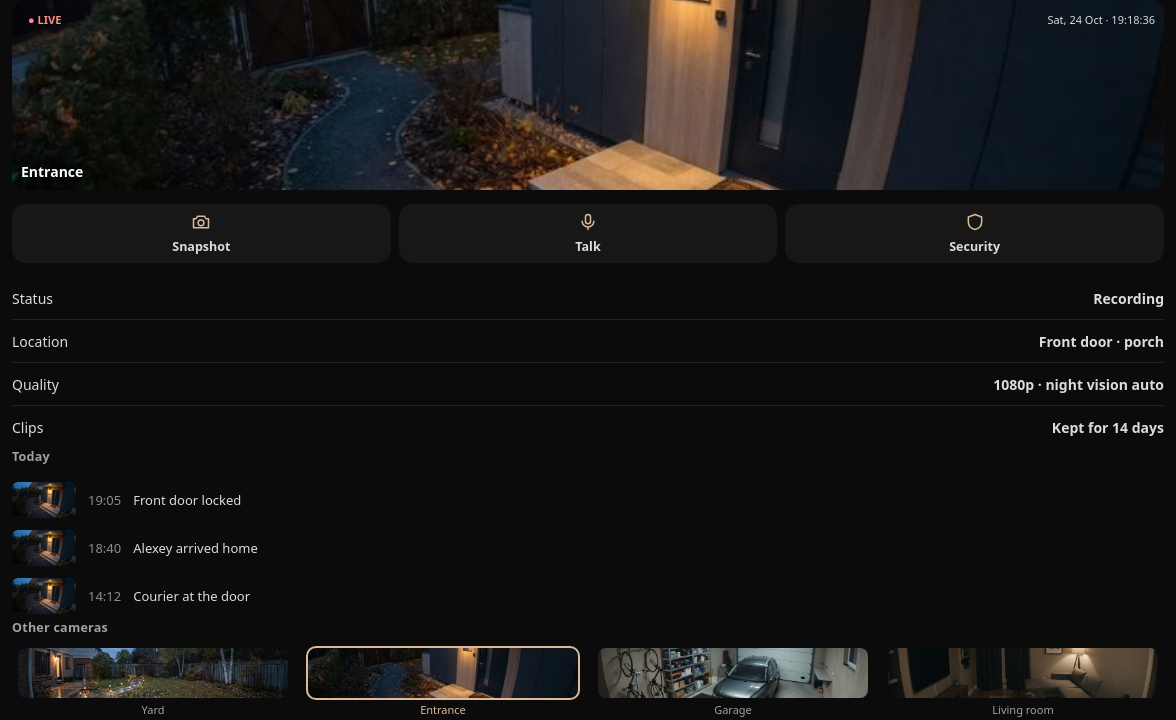
камера: Talk как в прототипе › повторное нажатие выключает разговор и не дублирует запись
Click the button "Talk". click: (588, 234)
box: [399,204,777,263]
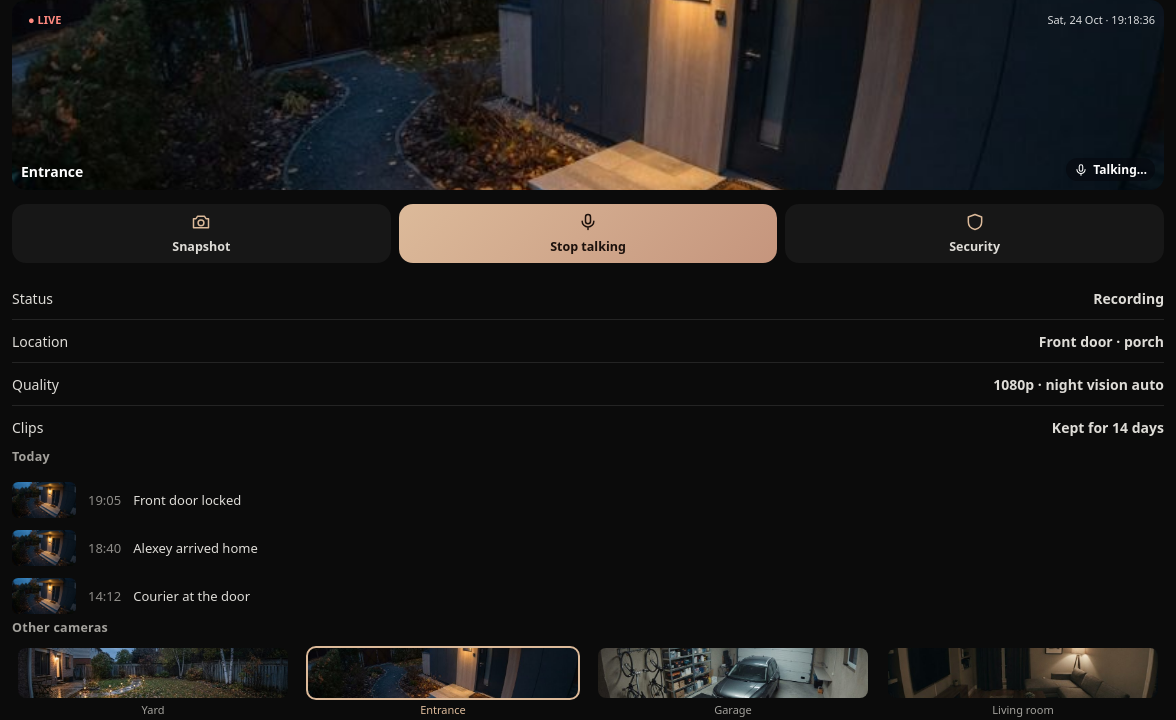
Click the button "Stop talking". click: (588, 234)
box: [399,204,777,263]
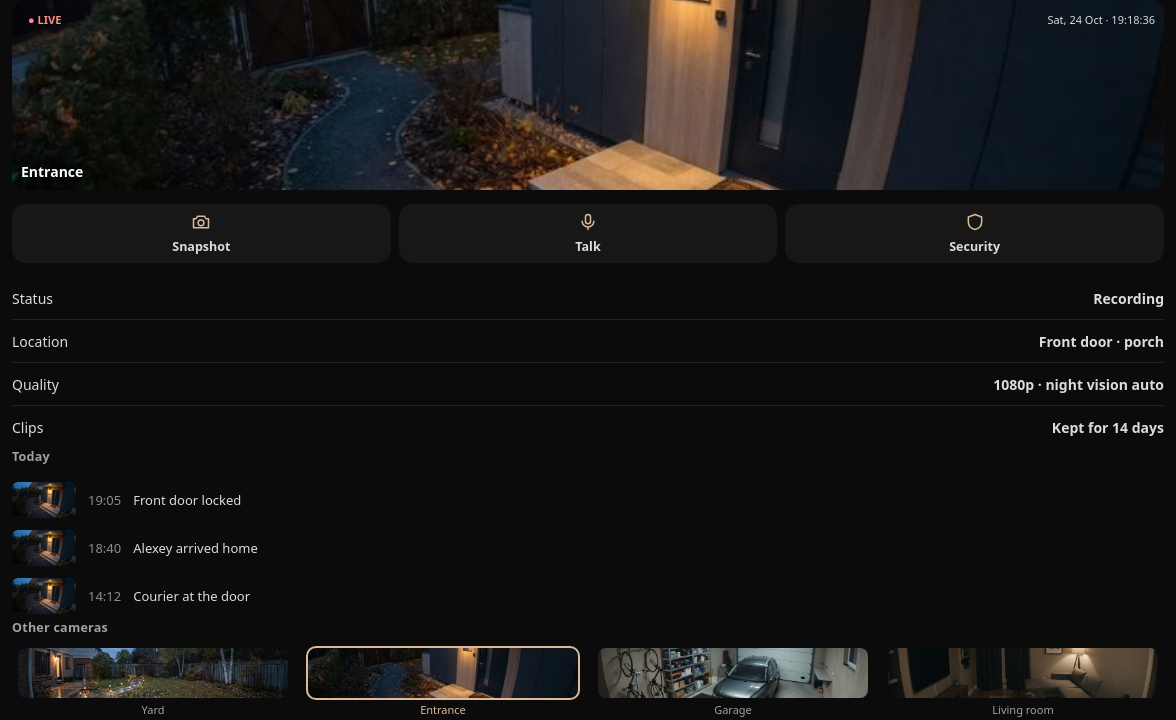
Expected: the text "Talking…" is gone
